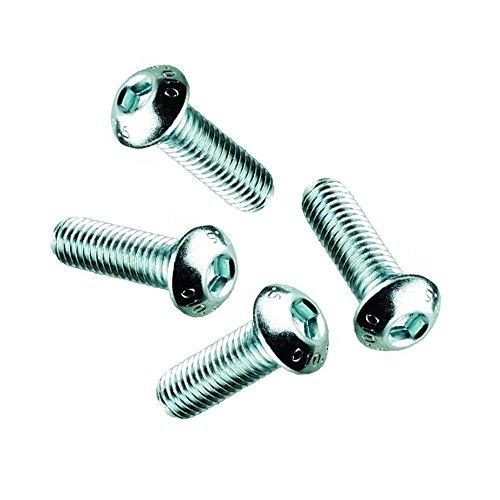Tornillo: (292, 173, 443, 356), (105, 62, 278, 216), (156, 282, 333, 421), (46, 214, 240, 322)
